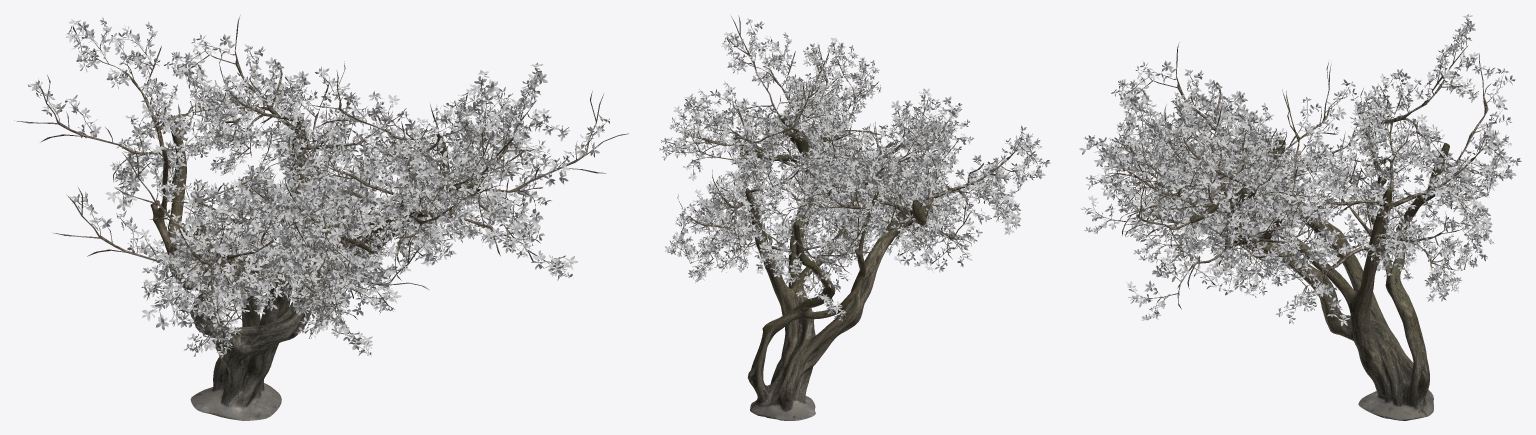
File: island_tree_02.fbx
The picture shows the model from 3 angles, left to right: view 1: azimuth 30°, elevation 25°; view 2: azimuth 150°, elevation 25°; view 3: azimuth 270°, elevation 25°; orthographic projection. The views are drawn at different scales.
Visible parts, largest first — view 1: Leaves, Branches, Trunk; view 2: Leaves, Branches, Trunk; view 3: Leaves, Branches, Trunk.
Part boxes in pixels (x1,y1,x2,y2): Leaves: (28, 17, 609, 358); Branches: (14, 15, 628, 353); Trunk: (150, 114, 484, 420); Leaves: (659, 18, 1050, 321); Branches: (662, 15, 1041, 317); Trunk: (732, 115, 933, 420); Leaves: (1079, 14, 1521, 325); Branches: (1087, 21, 1514, 320); Trunk: (1154, 104, 1449, 420).
Bounding box in the file's own units: 4.19 × 3.41 × 4.07.
